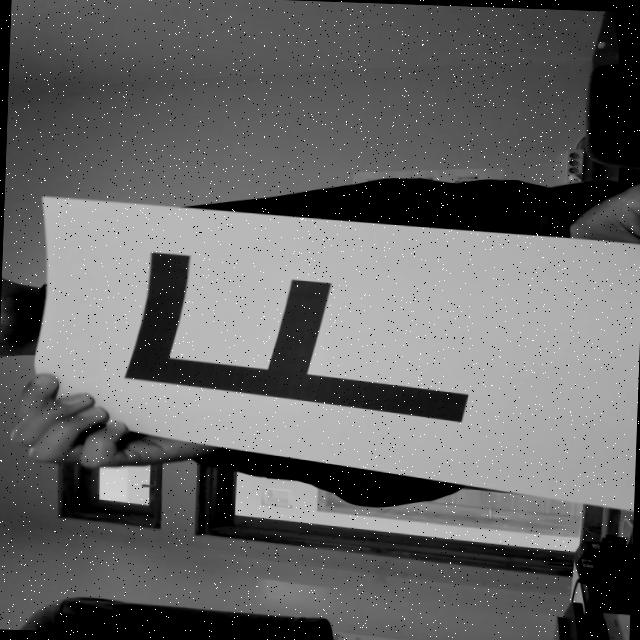f: (112, 232, 530, 432)
